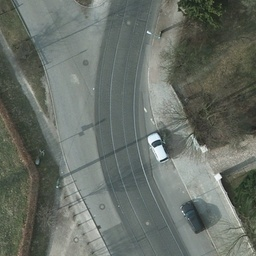car: (179, 199, 203, 232), (149, 132, 169, 162)
